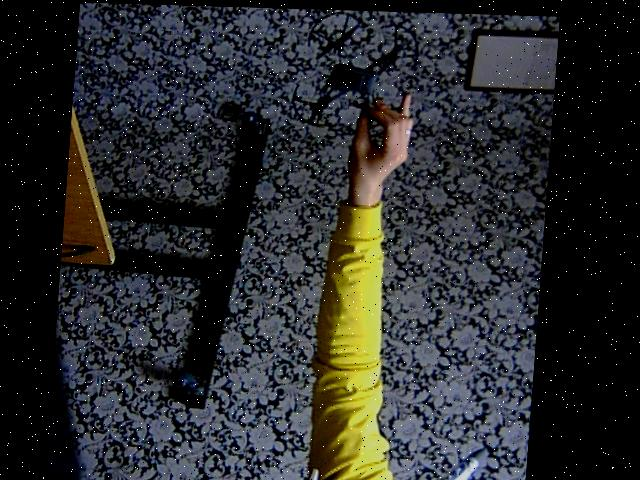drone: (282, 7, 431, 130)
